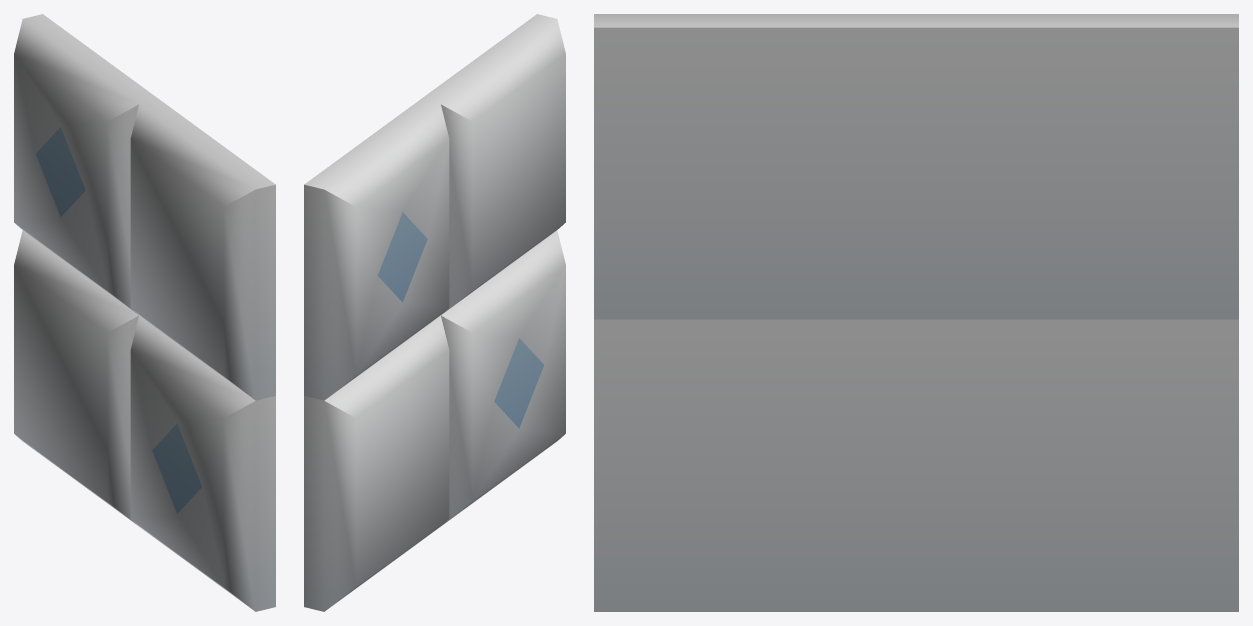
Rendered from wall-tiles-diamond (%wall).glb.
3 renders of one model, left to right at view 1: azimuth 30°, elevation 25°; view 2: azimuth 150°, elevation 25°; view 3: azimuth 270°, elevation 25°, orthographic. The views are drawn at different scales.
Visible parts, largest first — view 1: wall-tiles-diamond (%wall); view 2: wall-tiles-diamond (%wall); view 3: wall-tiles-diamond (%wall).
Part boxes in pixels (<box>): wall-tiles-diamond (%wall): <box>14,14,275,611</box>; wall-tiles-diamond (%wall): <box>304,14,565,611</box>; wall-tiles-diamond (%wall): <box>594,14,1238,611</box>.
Size of the model in its own units: 0.05 by 0.5 by 0.5.
